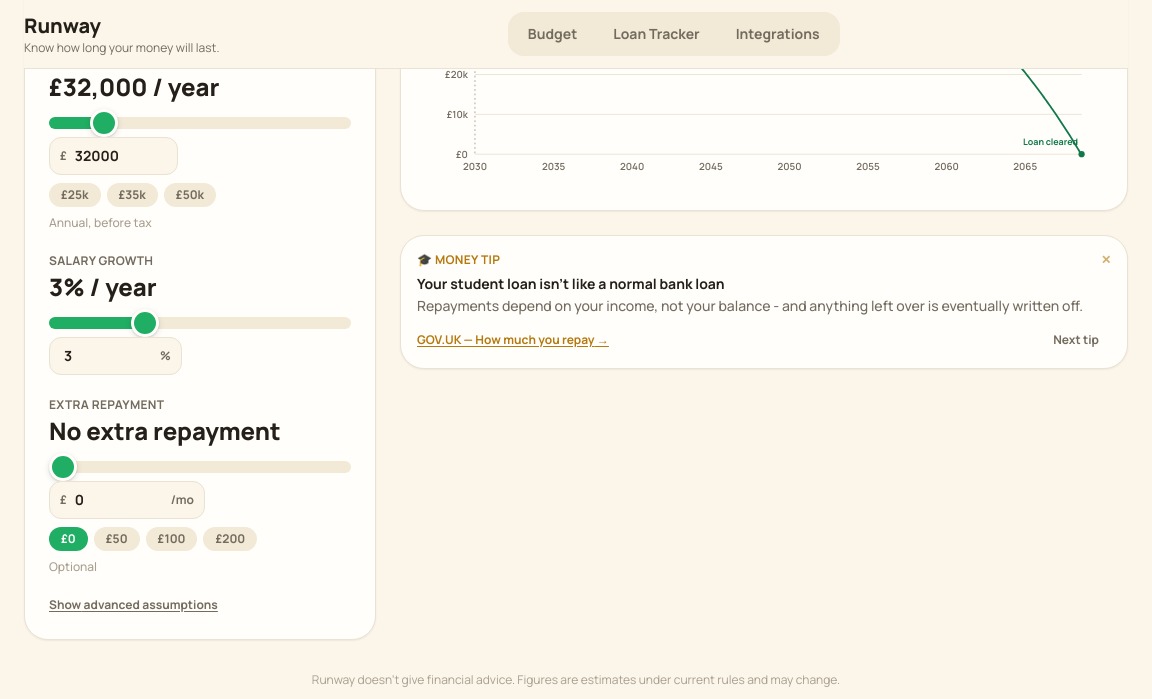
LoanTrackerShell - How this works disclosures › shows 'What happens if I pay extra?' once extra repayment is above zero, closed until clicked
(page scrolled)
Replace the text in the number field named "extra repayment - exact value" with "100": (119, 500) [71,486,167,514]
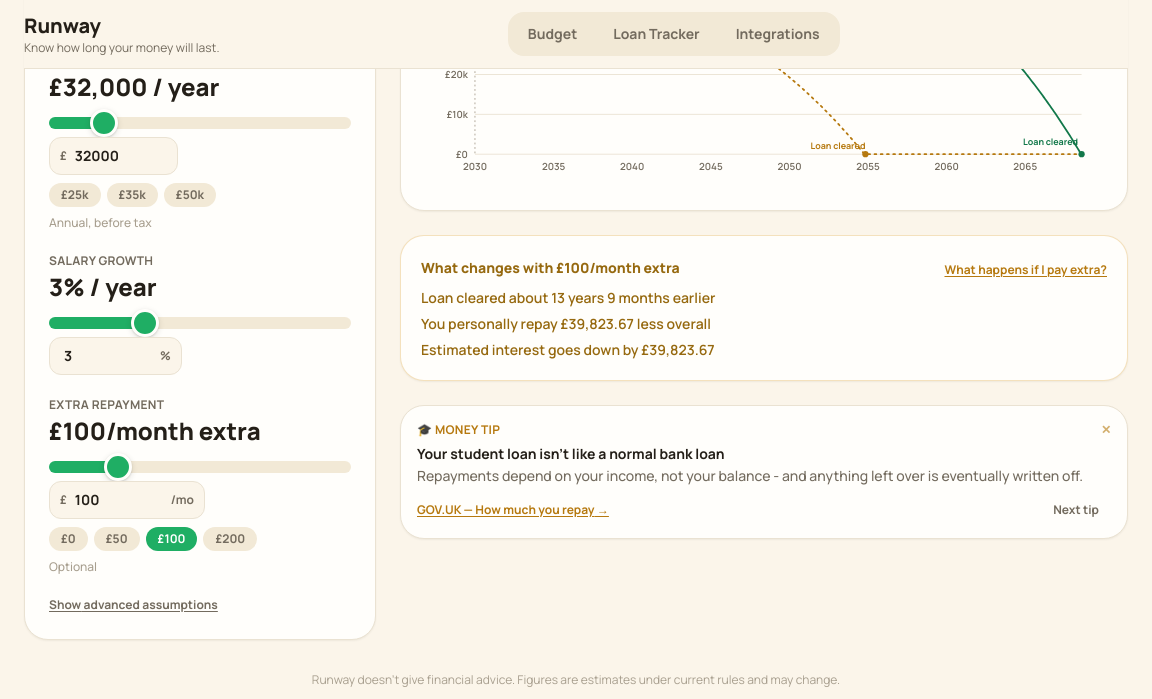
Check: the text "Extra repayments are optional" is not shown
Click the button "What happens if I pay extra?": (1026, 270) [944,262,1107,278]
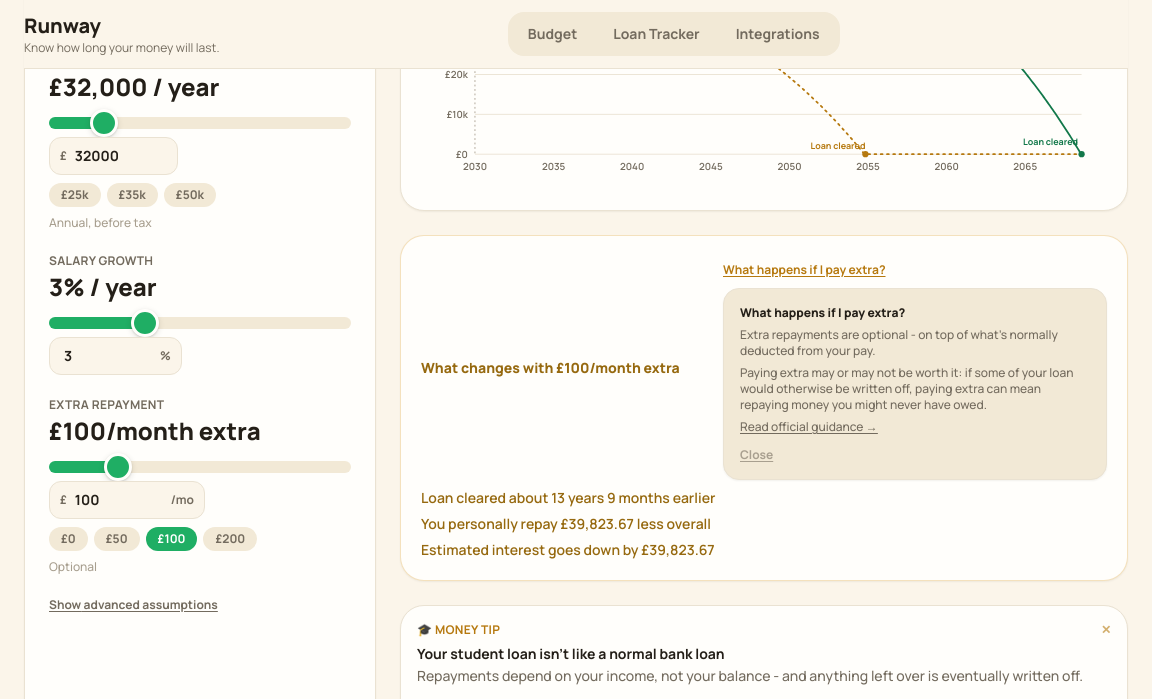
Check: the text "Extra repayments are optional" is shown, box [740,326,1058,359]
